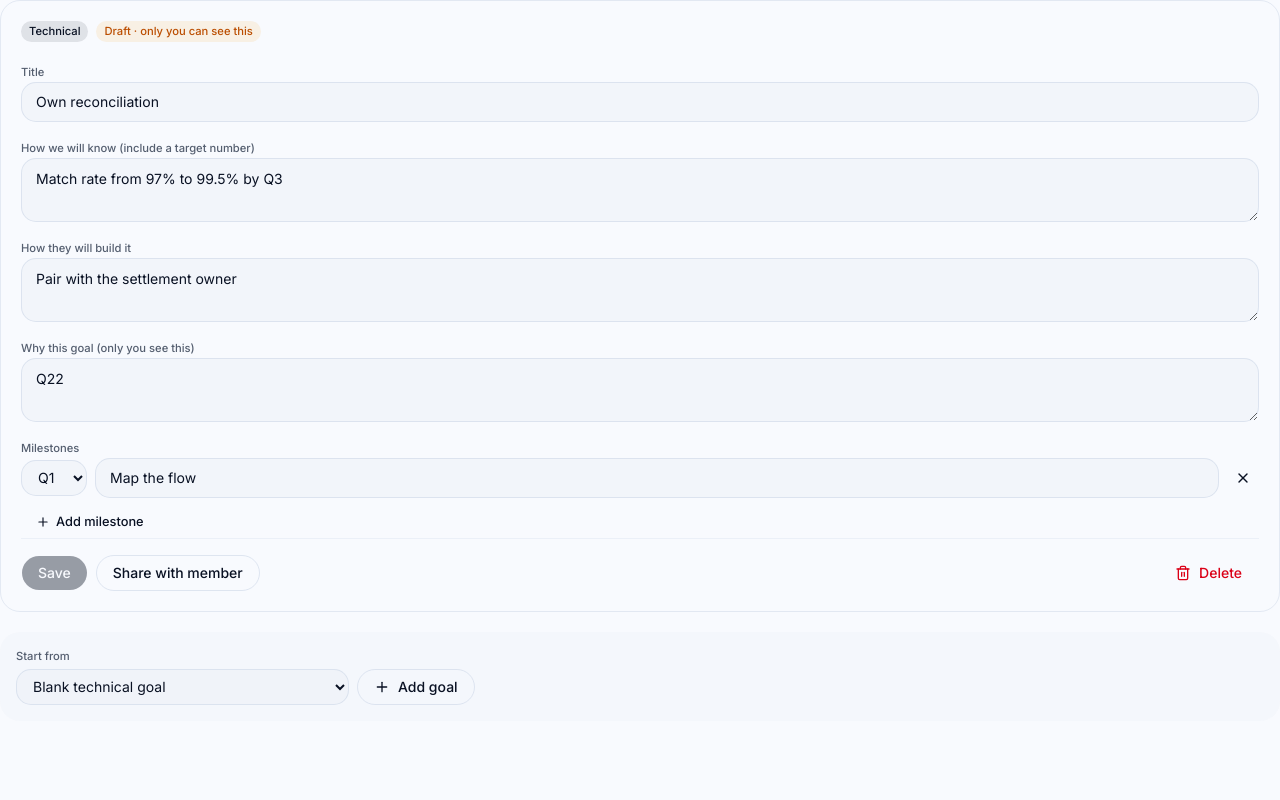
Test: GoalEditor: editing › saves an edit with a PATCH to that goal
Replace the text in the field named "Title" with "Own settlement reconciliation". click: (640, 102)
box: [21,82,1259,122]
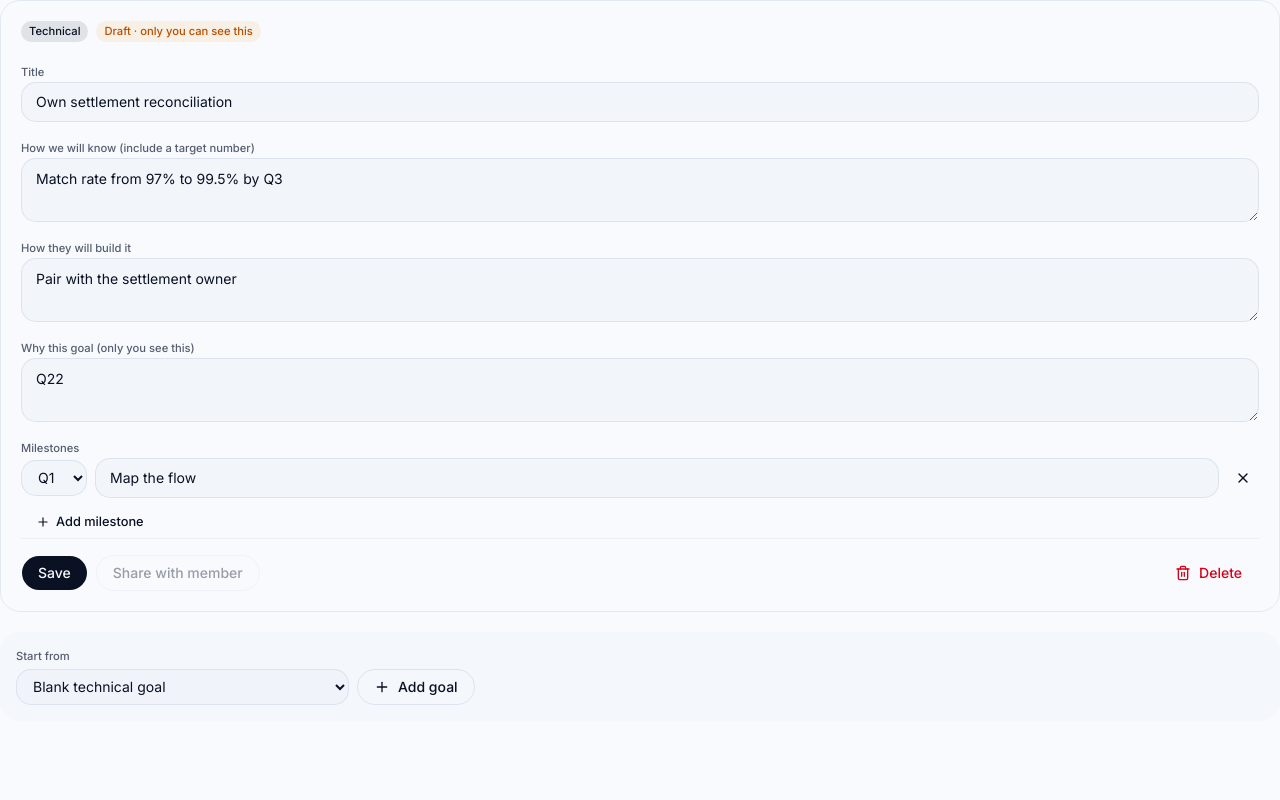
Click the button "Save". click: click(54, 573)
box: [21,555,88,591]
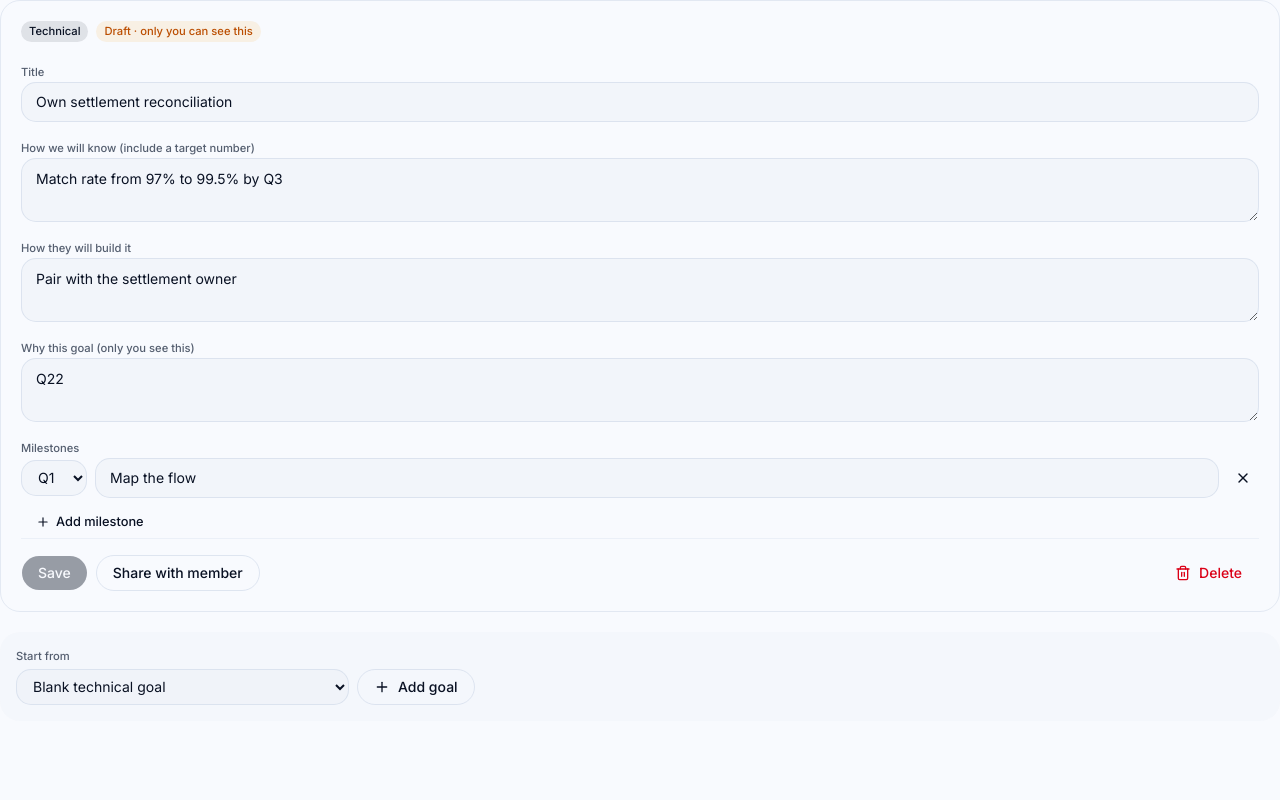
Result: the button "Save" is disabled at [21,555,88,591]
